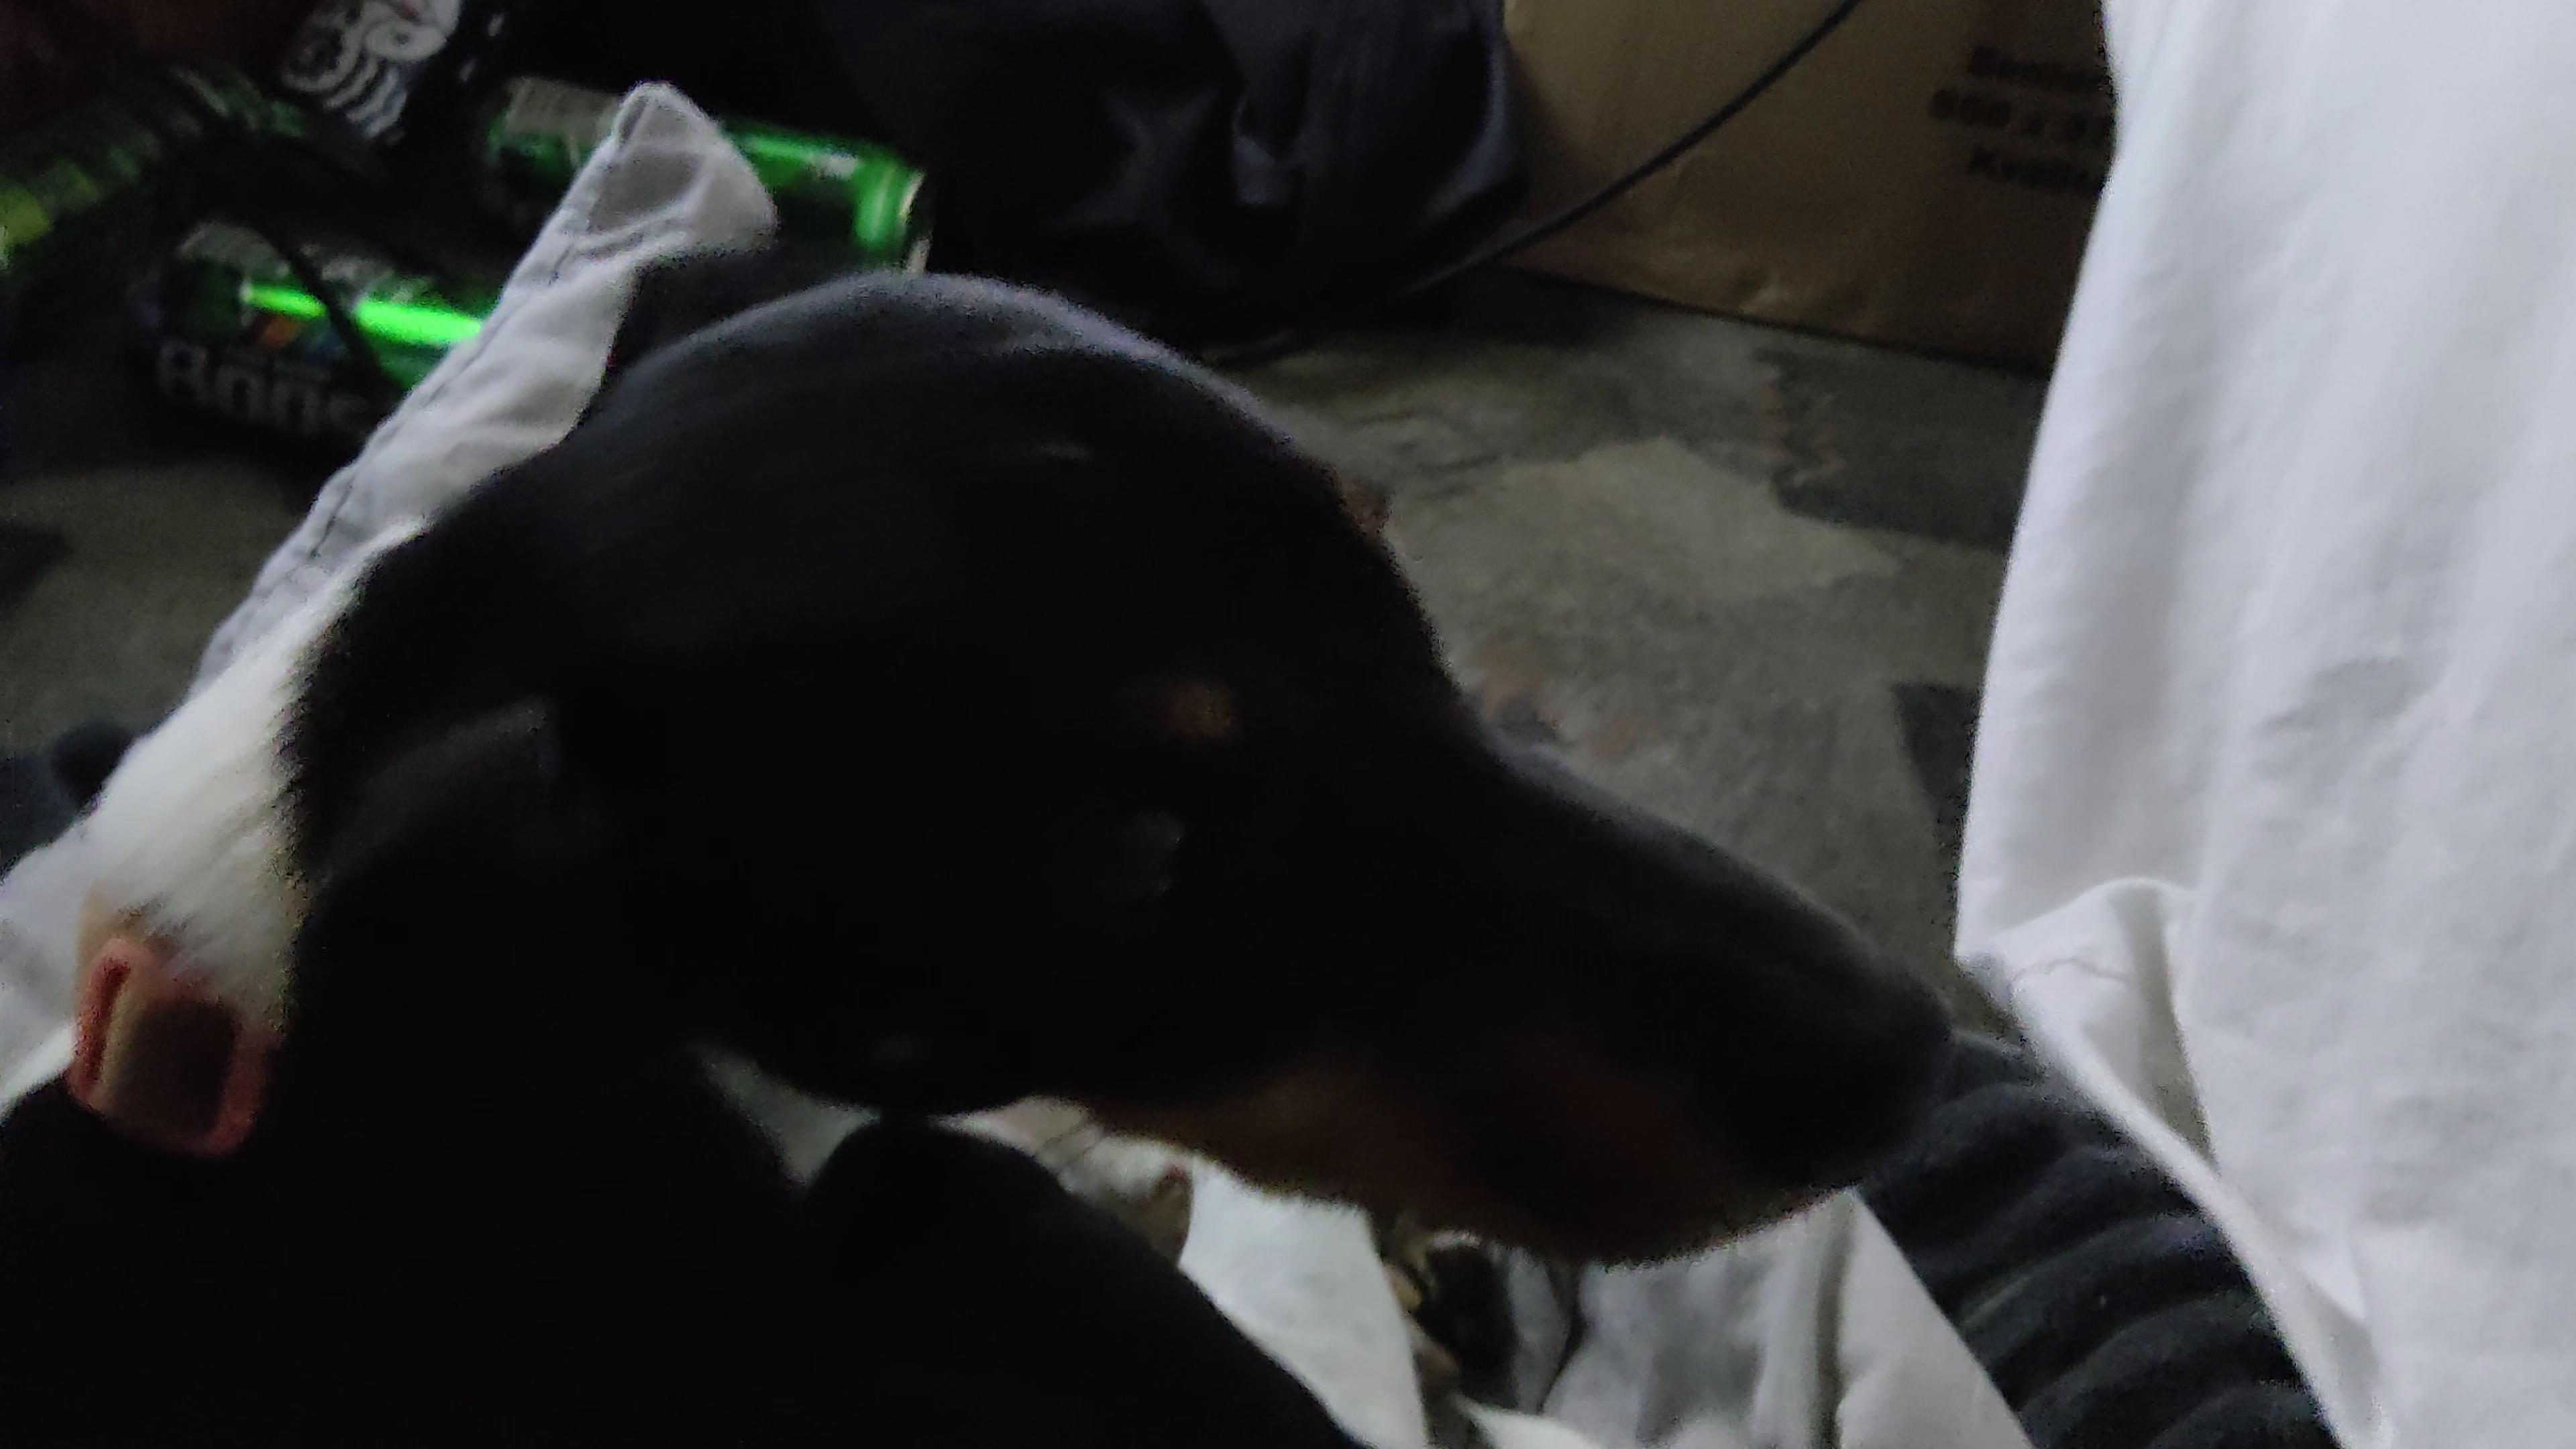Dog: (0, 232, 1994, 1449)
